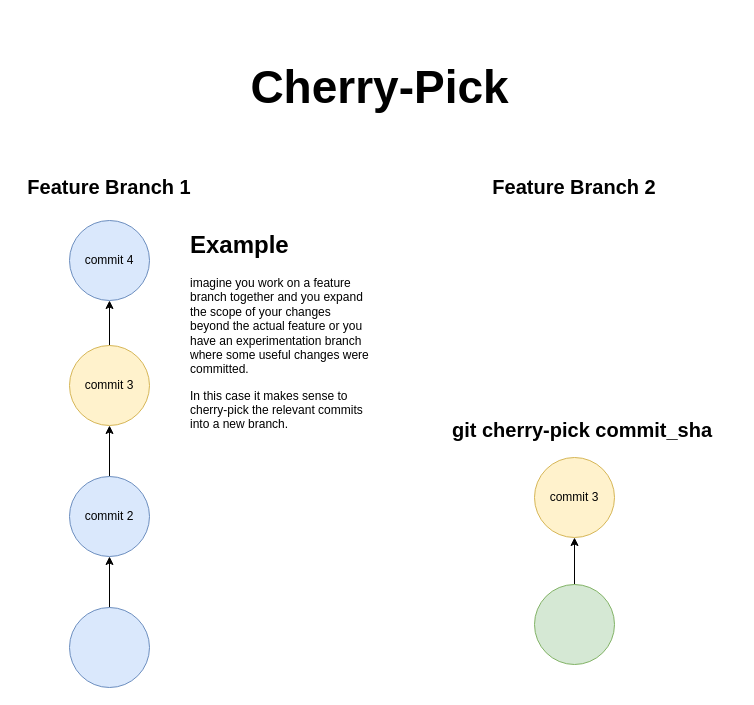
The diagram is 754 pixels wide and 705 high, and some of its shapes have lost their labels. The centre of each missing label's shape, as x and y in pixels:
"commit 1" belongs at point (109, 647).
"some commit" belongs at point (574, 624).
